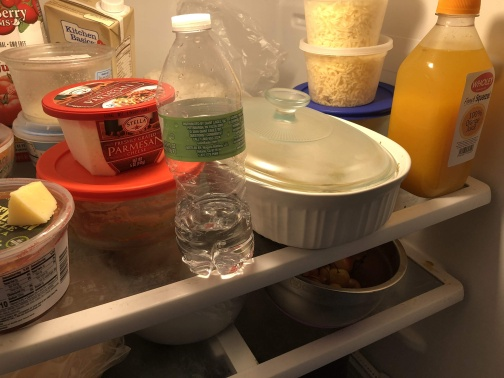bottle: (155, 11, 260, 281)
